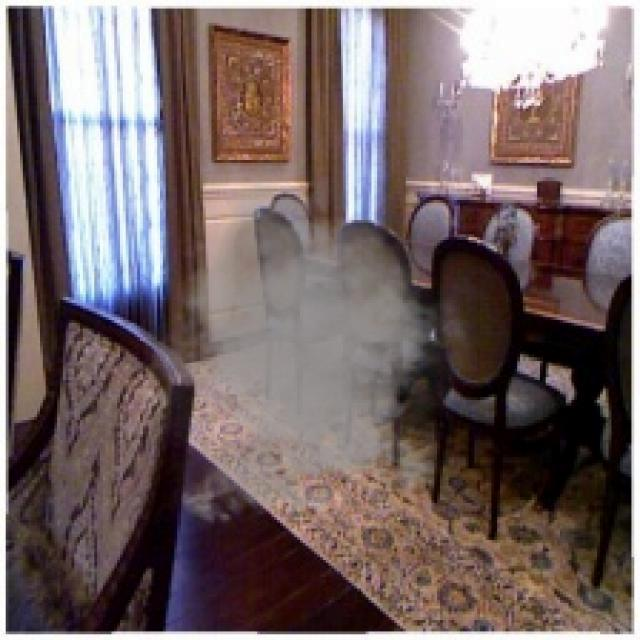no_helmet: (129, 177, 486, 534)
